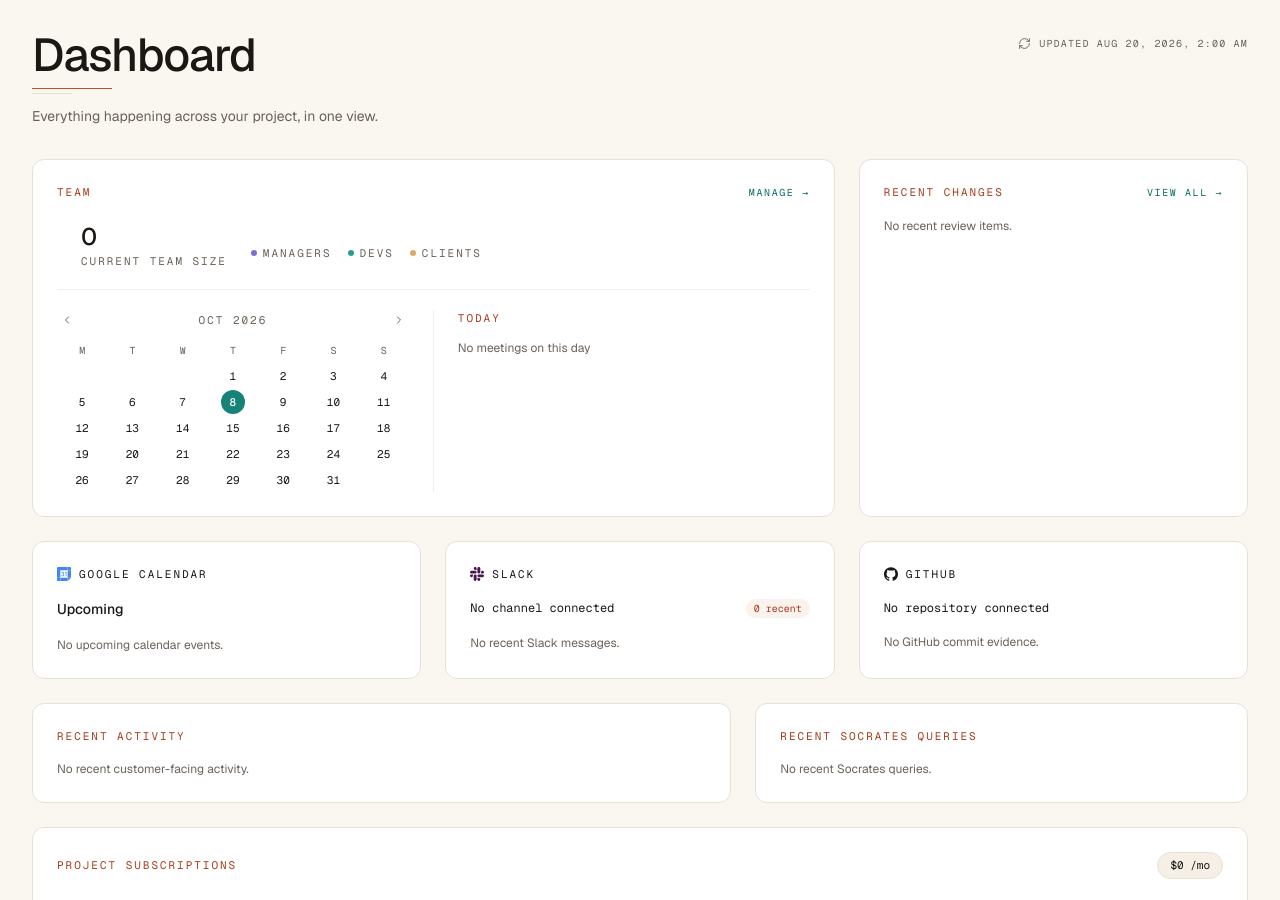
Scenario: Dashboard backend actions › keeps prior data and reports refresh failures with the backend code
Click the button "Updated Aug 20, 2026, 2:00 AM".
click(1133, 44)  # box [1018,36,1248,51]
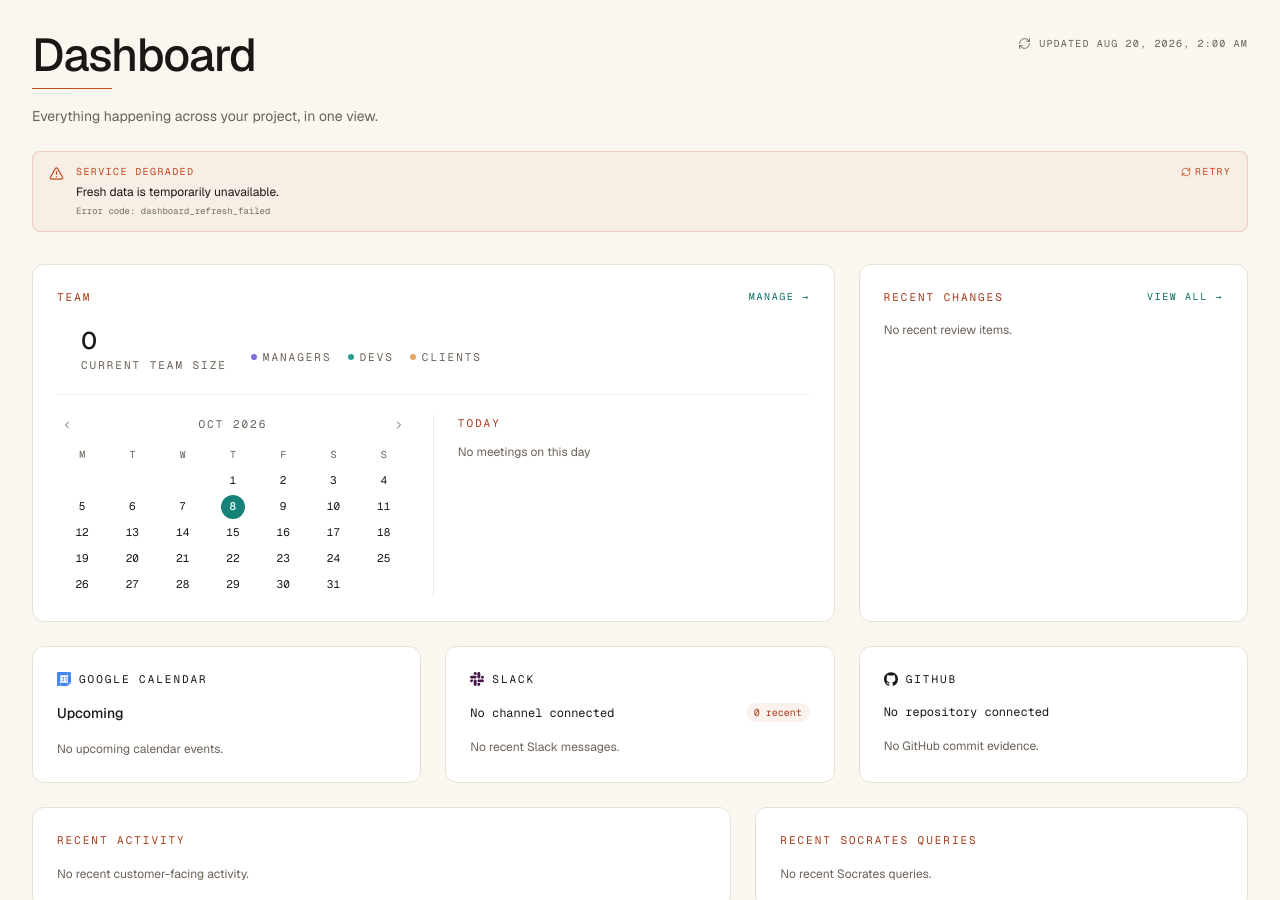
Check: the heading "Dashboard" is shown, box [32,25,256,85]
Check: the text "Fresh data is temporarily unavailable." is shown, box [76,184,279,200]
Check: the text "Error code: dashboard_refresh_failed" is shown, box [76,205,270,217]
